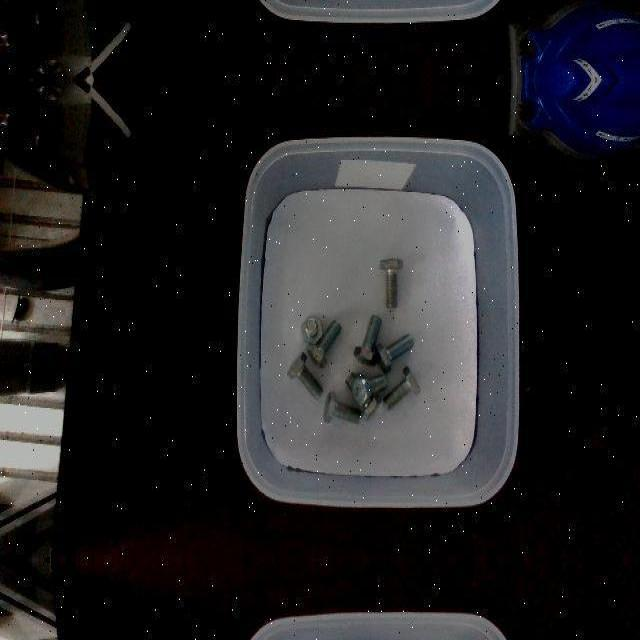screw: (287, 350, 324, 400), (306, 319, 342, 369), (384, 366, 421, 410), (375, 332, 415, 372), (355, 314, 382, 366), (323, 390, 361, 424), (378, 257, 402, 307), (352, 373, 387, 407), (301, 315, 323, 345)
